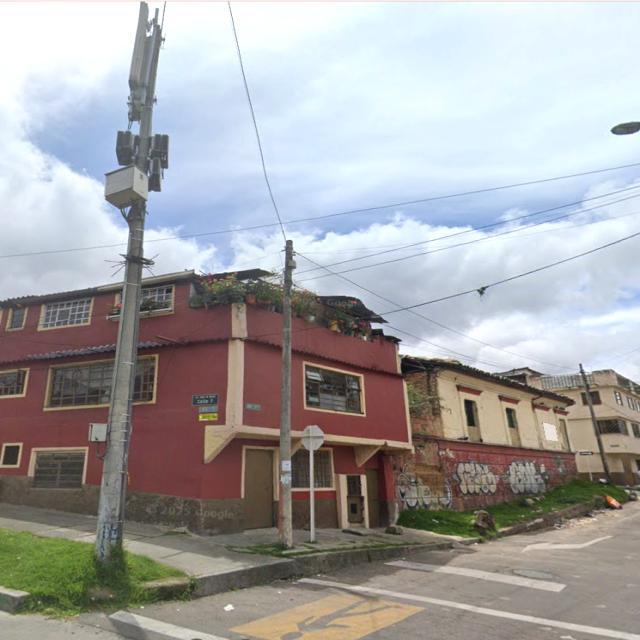fachada: (292, 292, 412, 527), (394, 357, 576, 510), (531, 375, 603, 478)
poste: (95, 201, 146, 562), (279, 240, 295, 549), (580, 364, 613, 483), (310, 448, 315, 542)
